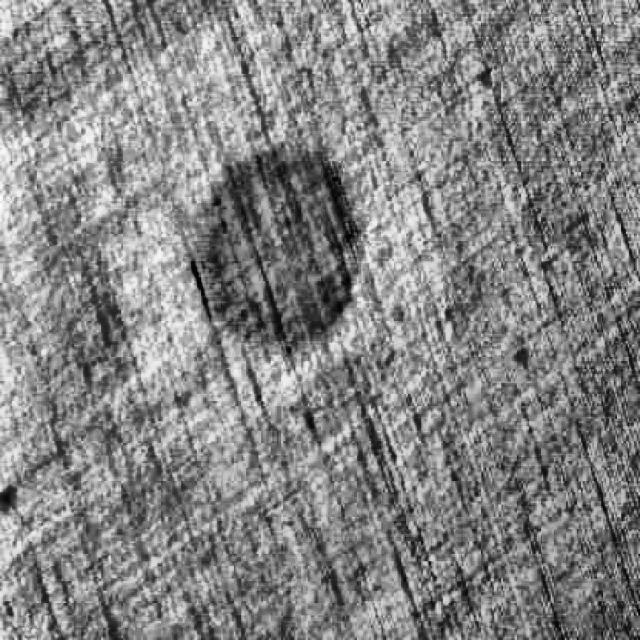oil_spot: (176, 137, 373, 366)
